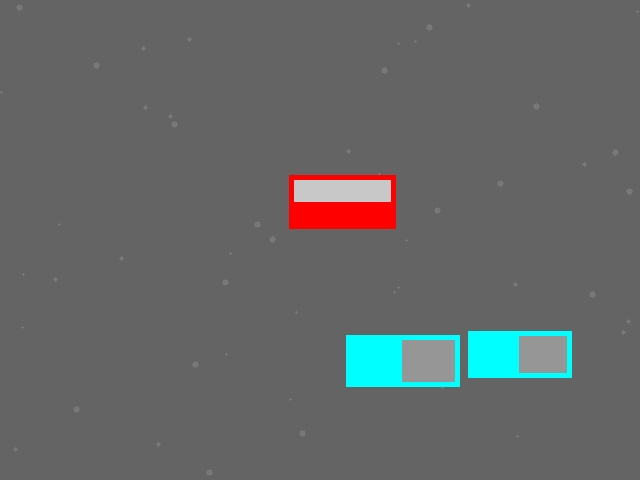car: (289, 175, 395, 228)
truck: (346, 335, 459, 386), (468, 331, 571, 377)
